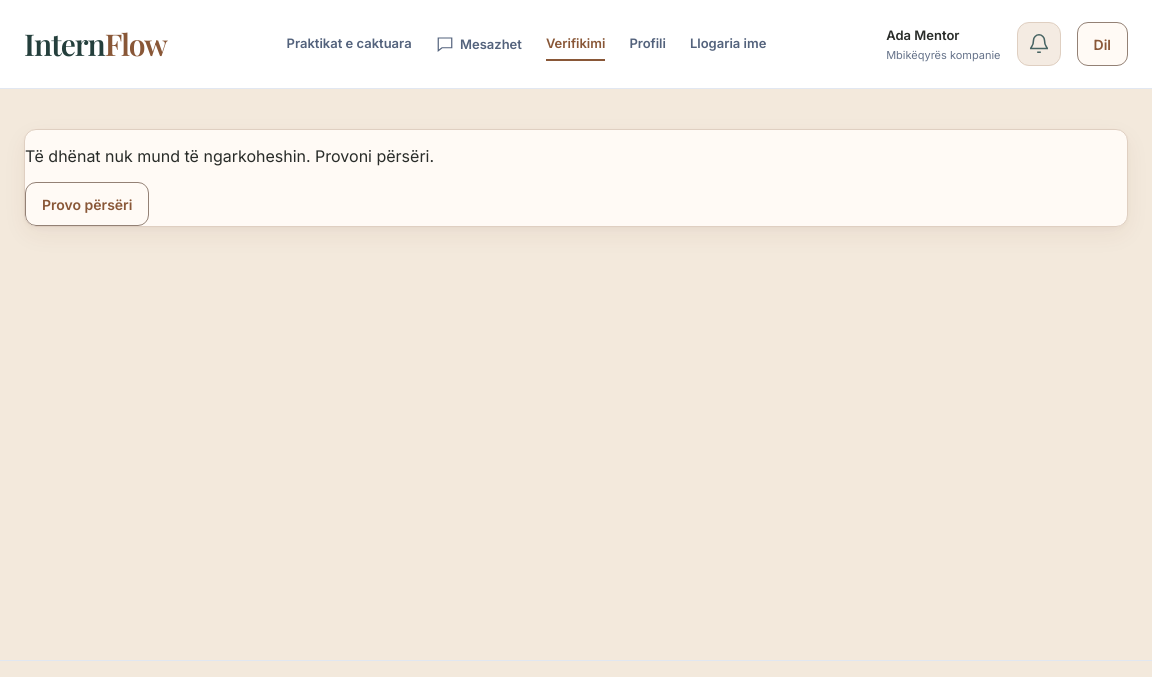
Test: clears an old loading error after a successful retry
The width and height of the screenshot is (1152, 677).
Step 1. Click the button "Provo përsëri" → click(87, 204), box [25,182,149,226]
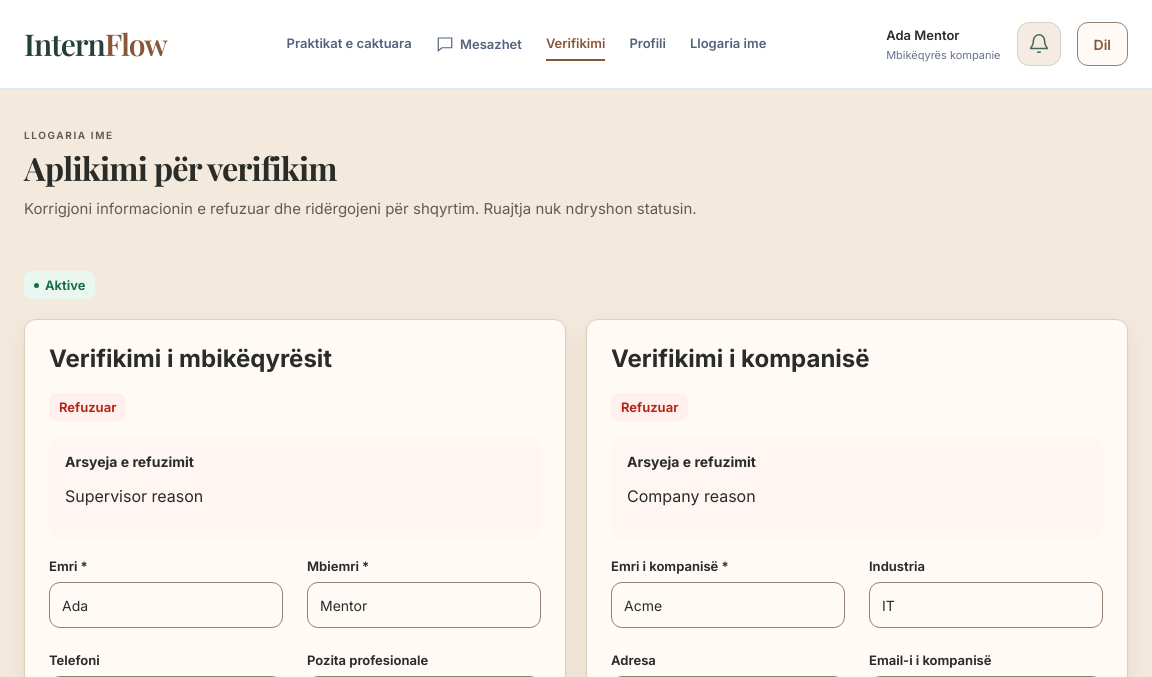
Result: the text "Company reason" is shown at [627,486,756,506]
Result: the message "Të dhënat nuk mund të ngarkoheshin. Provoni përsëri." is gone
